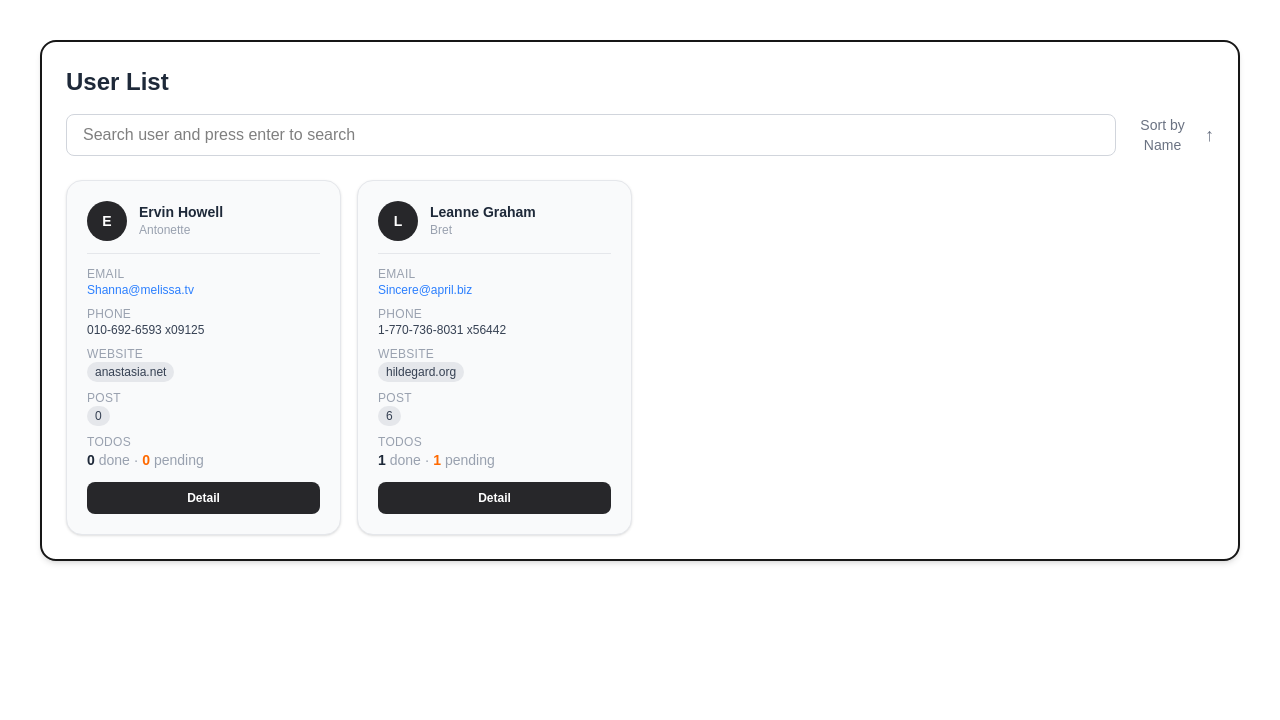
Scenario: UserList › sort user › sorts desc when sort button clicked
Click the button with id "sort-button": (1169, 135) [1124,114,1214,156]
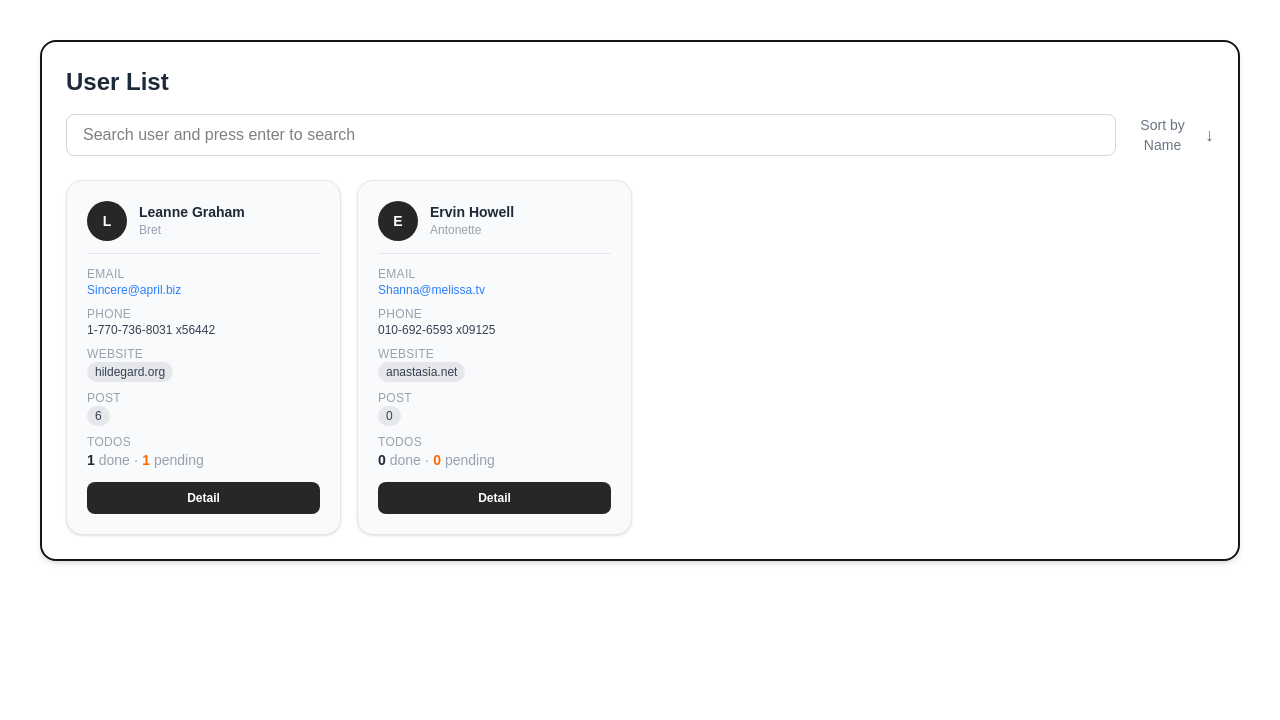
Check: the elements with test id "user-name" read "Leanne Graham", "Ervin Howell", in this order, box [139,204,245,222]; [430,204,514,222]
